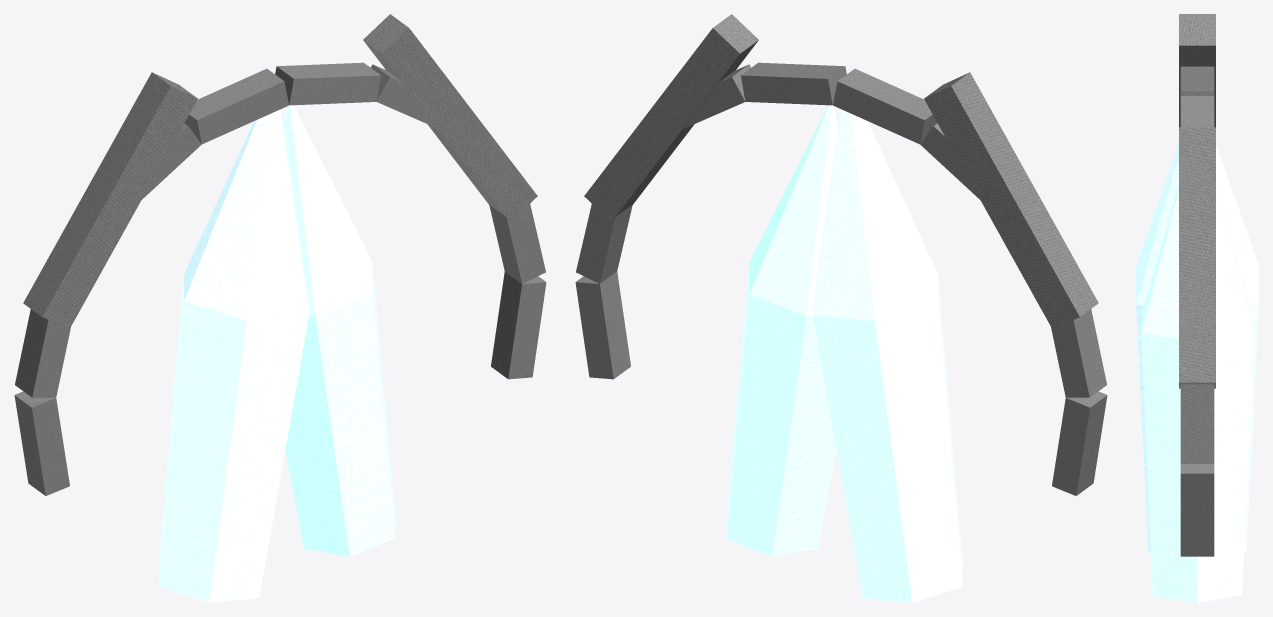
Rendered from boss-kall-winterheart.glb.
3 views of the same model, side by side, from view 1: azimuth 30°, elevation 25°; view 2: azimuth 150°, elevation 25°; view 3: azimuth 270°, elevation 25° (orthographic). The views are drawn at different scales.
Parts seen in each view (by area): view 1: left-core, right-core, left-horn, right-horn, winter-halo-0, winter-halo-5, winter-halo-9, winter-halo-4, winter-halo-8, winter-halo-1, winter-halo-3, winter-halo-6; view 2: left-core, right-core, left-horn, right-horn, winter-halo-0, winter-halo-5, winter-halo-9, winter-halo-4, winter-halo-8, winter-halo-1, winter-halo-3, winter-halo-6; view 3: right-core, right-horn, left-core, winter-halo-0, winter-halo-1, left-horn, winter-halo-4, winter-halo-5.
Boxes of the visible parts, x1=… form: left-core: x1=159, y1=109, x2=309, y2=602; right-core: x1=283, y1=105, x2=395, y2=556; left-horn: x1=23, y1=72, x2=197, y2=329; right-horn: x1=363, y1=14, x2=537, y2=221; winter-halo-0: x1=491, y1=271, x2=546, y2=379; winter-halo-5: x1=184, y1=68, x2=288, y2=144; winter-halo-9: x1=14, y1=391, x2=69, y2=495; winter-halo-4: x1=275, y1=62, x2=380, y2=105; winter-halo-8: x1=15, y1=309, x2=70, y2=397; winter-halo-1: x1=489, y1=204, x2=545, y2=283; winter-halo-3: x1=371, y1=64, x2=438, y2=128; winter-halo-6: x1=142, y1=123, x2=201, y2=199; left-core: x1=812, y1=109, x2=962, y2=602; right-core: x1=726, y1=105, x2=838, y2=556; left-horn: x1=924, y1=72, x2=1098, y2=329; right-horn: x1=584, y1=14, x2=758, y2=221; winter-halo-0: x1=575, y1=271, x2=630, y2=379; winter-halo-5: x1=833, y1=68, x2=937, y2=144; winter-halo-9: x1=1052, y1=391, x2=1107, y2=495; winter-halo-4: x1=741, y1=62, x2=846, y2=105; winter-halo-8: x1=1051, y1=309, x2=1106, y2=397; winter-halo-1: x1=576, y1=204, x2=632, y2=283; winter-halo-3: x1=683, y1=64, x2=750, y2=128; winter-halo-6: x1=920, y1=123, x2=979, y2=199; right-core: x1=1141, y1=185, x2=1253, y2=602; right-horn: x1=1179, y1=127, x2=1215, y2=388; left-core: x1=1136, y1=144, x2=1258, y2=553; winter-halo-0: x1=1180, y1=464, x2=1214, y2=556; winter-halo-1: x1=1180, y1=384, x2=1214, y2=463; left-horn: x1=1179, y1=14, x2=1215, y2=127; winter-halo-4: x1=1180, y1=96, x2=1214, y2=127; winter-halo-5: x1=1180, y1=67, x2=1214, y2=95.
Bounding box in the file's own units: 0.939 × 0.9102 × 0.1992.
Materials: 4 (4 with a texture image).
